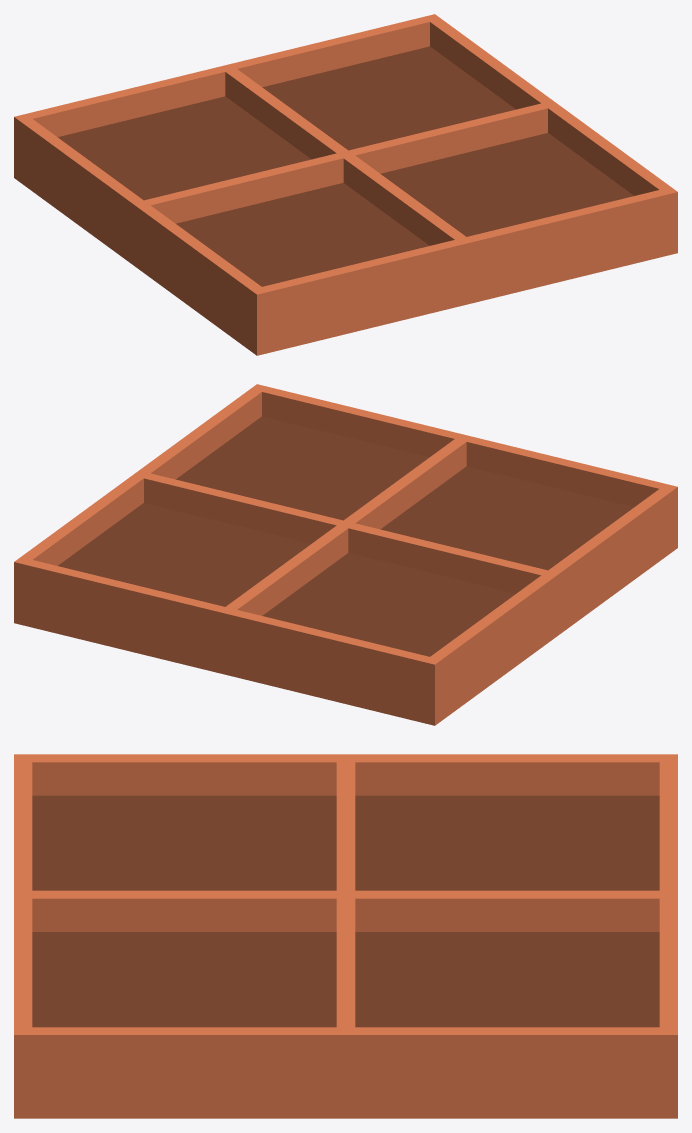
Rendered from CropPlot_Big.fbx.
3 renders of one model, top to bottom at view 1: azimuth 30°, elevation 25°; view 2: azimuth 150°, elevation 25°; view 3: azimuth 270°, elevation 25°, orthographic. The views are drawn at different scales.
Parts seen in each view (by area): view 1: CropPlot_Big_Geo; view 2: CropPlot_Big_Geo; view 3: CropPlot_Big_Geo.
Boxes of the visible parts, x1,y1,x2,y2 form: CropPlot_Big_Geo: (14, 14, 677, 355); CropPlot_Big_Geo: (14, 384, 677, 725); CropPlot_Big_Geo: (14, 754, 677, 1118).
Bounding box in the file's own units: 1.8 × 0.25 × 1.8.
